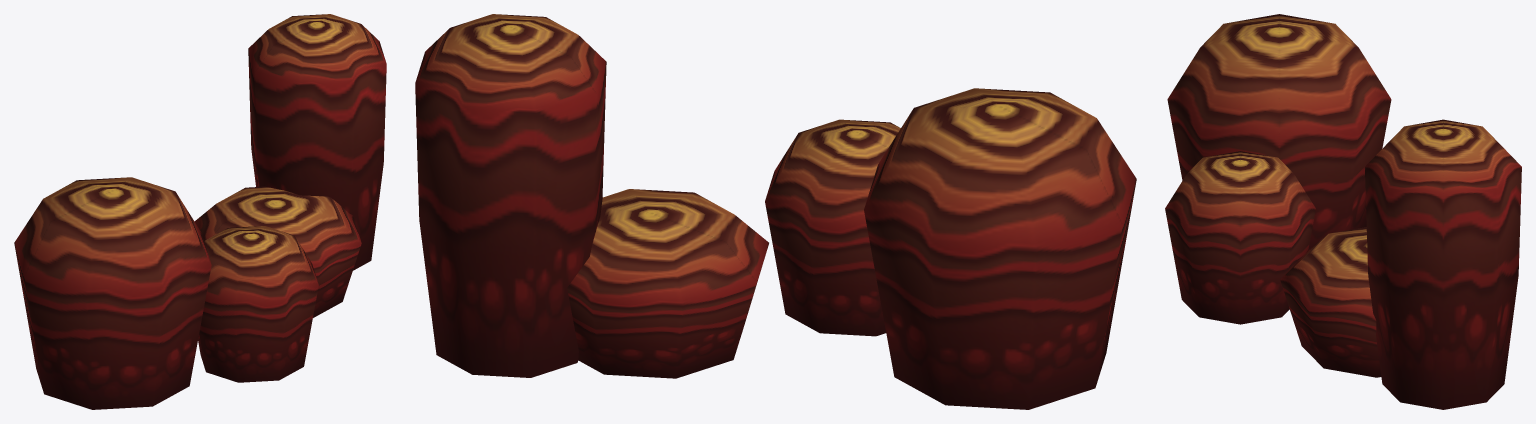
Rendered from Coral_29_Group.FBX.
3 renders of one model, left to right at view 1: azimuth 30°, elevation 25°; view 2: azimuth 150°, elevation 25°; view 3: azimuth 270°, elevation 25°, orthographic. The views are drawn at different scales.
Parts seen in each view (by area): view 1: Coral_29_Group; view 2: Coral_29_Group; view 3: Coral_29_Group.
Boxes of the visible parts, x1,y1,x2,y2 form: Coral_29_Group: (14,14,386,409); Coral_29_Group: (415,14,1136,409); Coral_29_Group: (1165,14,1521,409).
Bounding box in the file's own units: 38.84 × 19.97 × 25.48.
